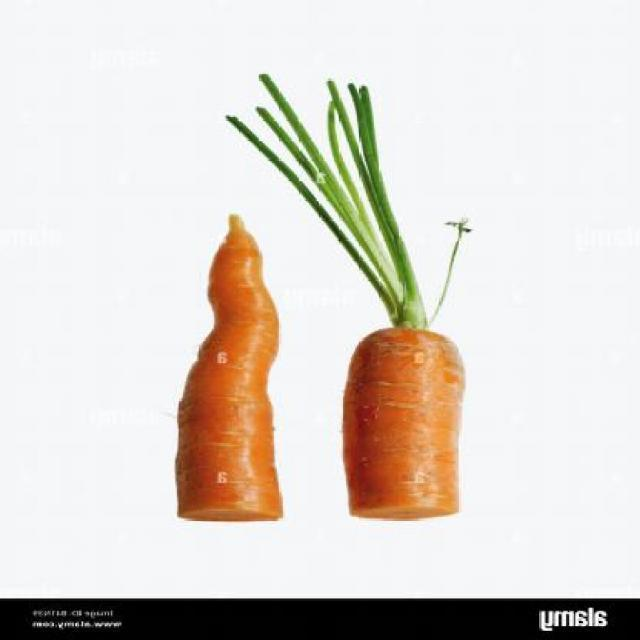Carrot: (228, 75, 470, 518), (178, 215, 282, 520)
